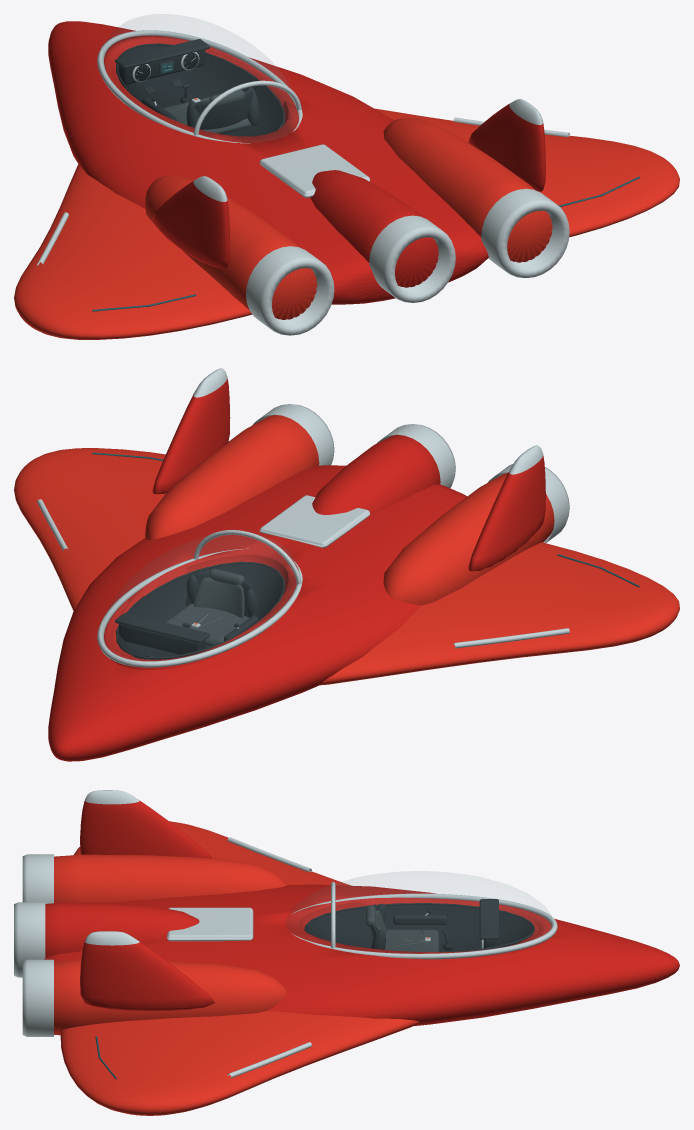
The model's file is space-jet.glb.
3 views of the same model, one above another, from view 1: azimuth 30°, elevation 25°; view 2: azimuth 150°, elevation 25°; view 3: azimuth 270°, elevation 25° (orthographic). The views are drawn at different scales.
Parts seen in each view (by area): view 1: toy-space-jet; view 2: toy-space-jet; view 3: toy-space-jet.
Part boxes in pixels (x1,y1,x2,y2): toy-space-jet: (14,14,679,339); toy-space-jet: (14,368,679,761); toy-space-jet: (14,790,679,1115).
Bounding box in the file's own units: 6.38 × 1.4 × 6.26.
